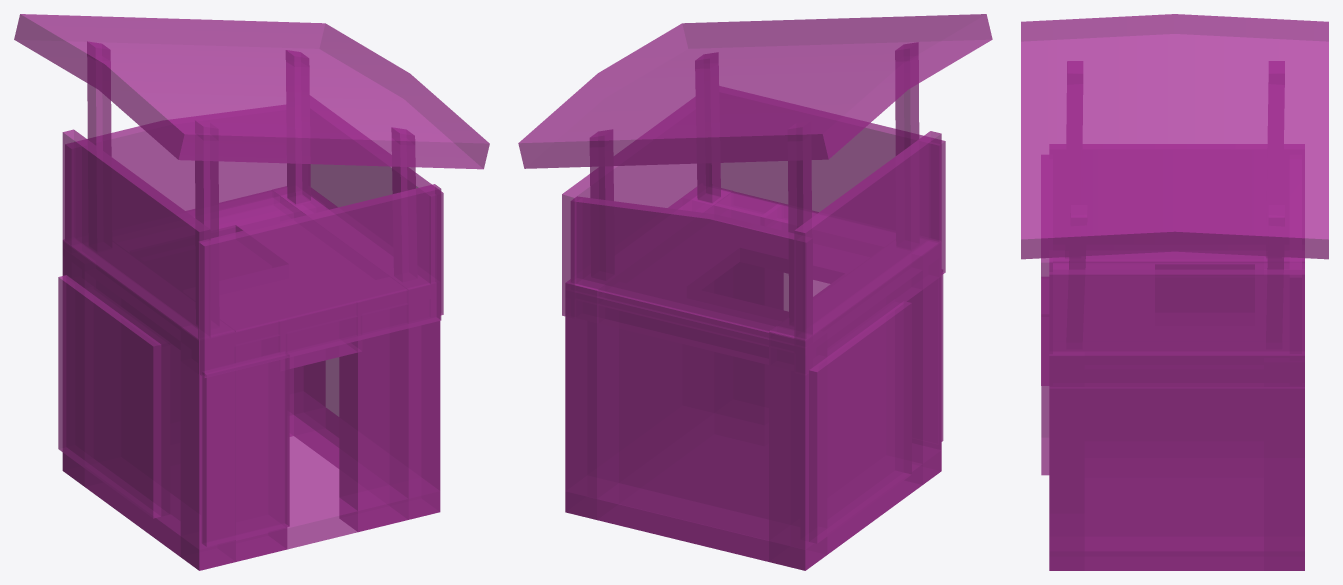
File: SM_Bld_Tower_01_Collision.fbx
3 renders of one model, left to right at view 1: azimuth 30°, elevation 25°; view 2: azimuth 150°, elevation 25°; view 3: azimuth 270°, elevation 25°, orthographic. The views are drawn at different scales.
Visible parts, largest first — view 1: SM_Bld_Tower_01_Collision; view 2: SM_Bld_Tower_01_Collision; view 3: SM_Bld_Tower_01_Collision.
Part boxes in pixels (<box>): SM_Bld_Tower_01_Collision: <box>14,14,489,570</box>; SM_Bld_Tower_01_Collision: <box>518,14,992,570</box>; SM_Bld_Tower_01_Collision: <box>1021,14,1328,570</box>.
Size of the model in its own units: 397 by 562 by 361.
